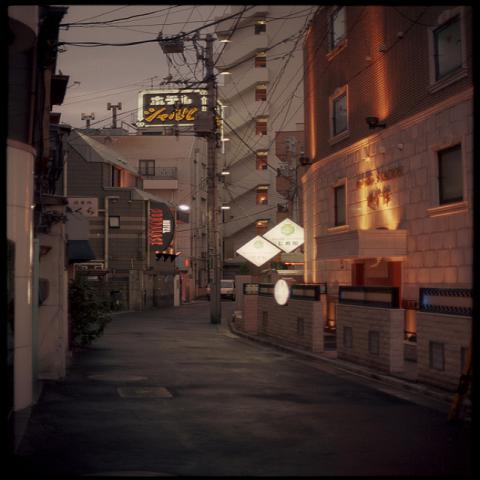truck: (206, 280, 236, 302)
